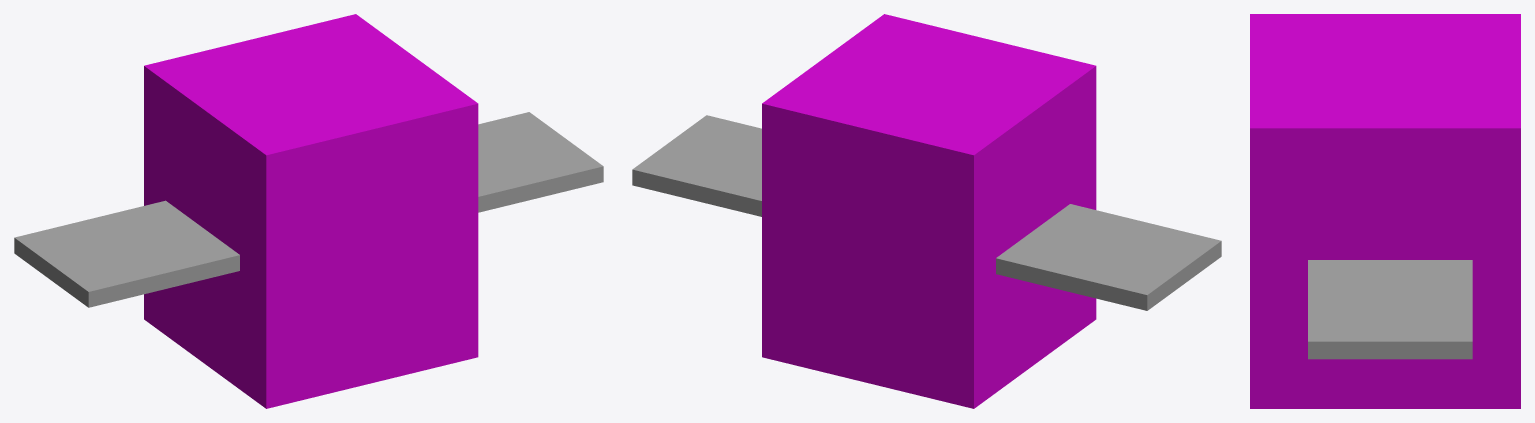
File: flyer.glb
3 views of the same model, side by side, from view 1: azimuth 30°, elevation 25°; view 2: azimuth 150°, elevation 25°; view 3: azimuth 270°, elevation 25° (orthographic). The views are drawn at different scales.
Parts seen in each view (by area): view 1: collide.body, wing.l, wing.r; view 2: collide.body, wing.l, wing.r; view 3: collide.body, wing.r.
Boxes of the visible parts, x1,y1,x2,y2 form: collide.body: (144, 14, 478, 408); wing.l: (14, 200, 239, 307); wing.r: (478, 112, 603, 212); collide.body: (762, 14, 1096, 408); wing.l: (996, 204, 1221, 310); wing.r: (632, 115, 761, 216); collide.body: (1250, 14, 1520, 408); wing.r: (1308, 260, 1472, 359).
Size of the model in its own units: 3.4 by 1.6 by 1.4.
